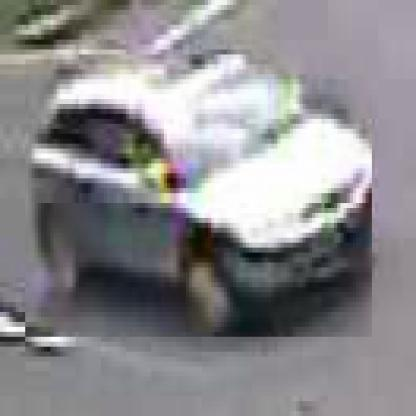car: (26, 56, 376, 343)
